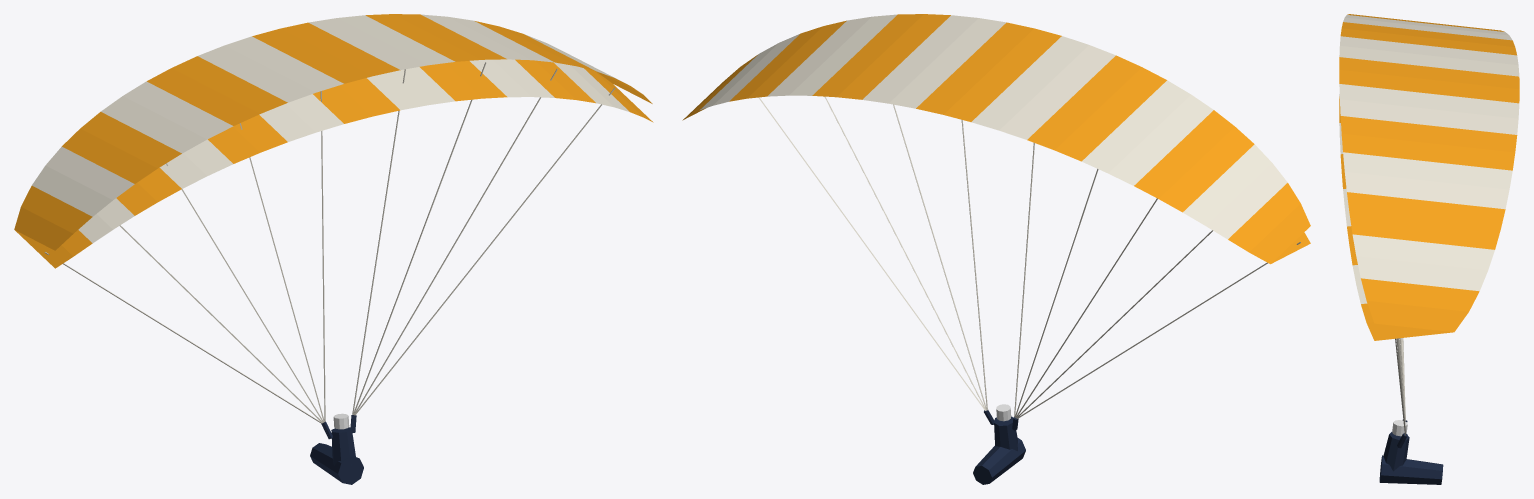
Rendered from paraglider.glb.
3 views of the same model, side by side, from view 1: azimuth 30°, elevation 25°; view 2: azimuth 150°, elevation 25°; view 3: azimuth 270°, elevation 25° (orthographic). The views are drawn at different scales.
Parts seen in each view (by area): view 1: paraglider; view 2: paraglider; view 3: paraglider.
Boxes of the visible parts, x1,y1,x2,y2 form: paraglider: [14, 14, 653, 484]; paraglider: [682, 14, 1310, 484]; paraglider: [1339, 14, 1519, 484].
Size of the model in its own units: 11.01 by 7.48 by 2.95.
